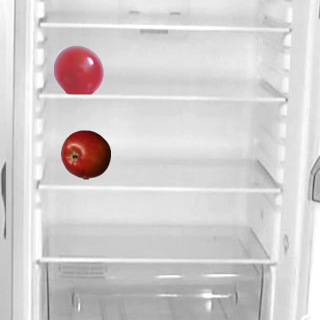Apple Braeburn: (60, 129, 110, 179)
Redcurrant: (53, 44, 103, 94)
